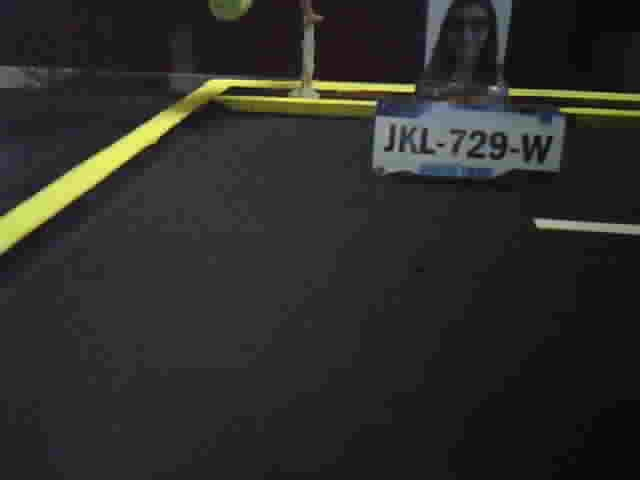PLACA: (368, 97, 568, 189)
ROSTRO: (429, 1, 502, 93)
